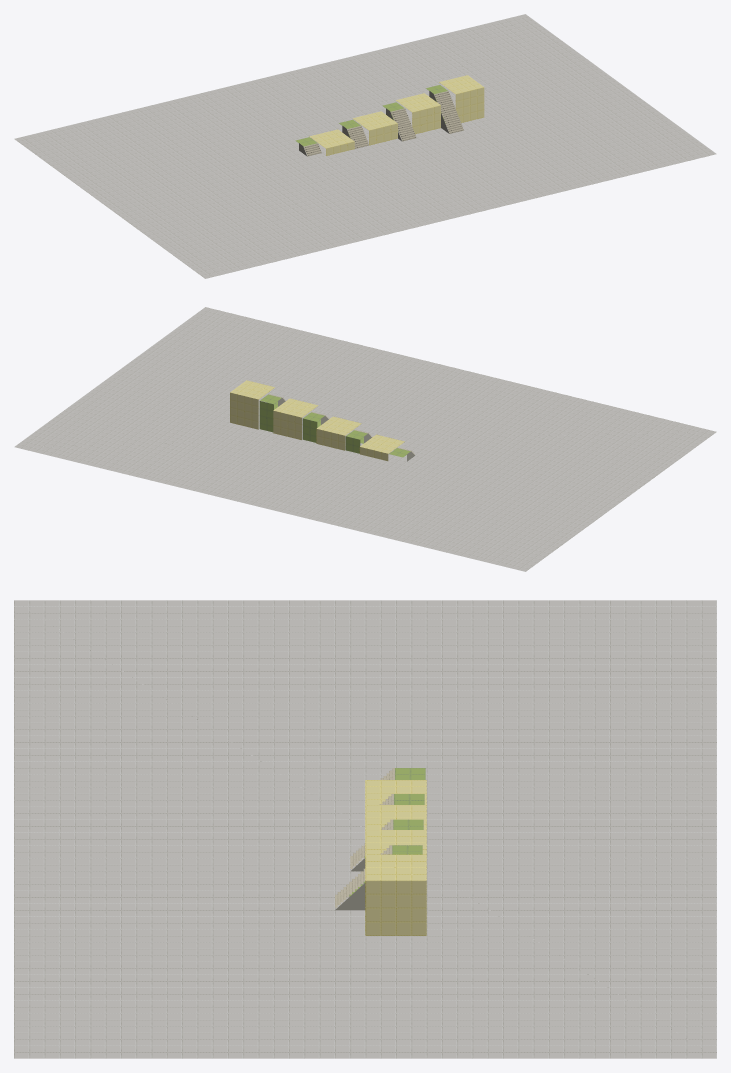
3 renders of one model, top to bottom at view 1: azimuth 30°, elevation 25°; view 2: azimuth 150°, elevation 25°; view 3: azimuth 270°, elevation 25°, orthographic. The views are drawn at different scales.
Visible parts, largest first — view 1: floor_col, platform_4x4-col, platform_3x4-col, platform 2x4-col, platform_1x4-col; view 2: floor_col, platform_4x4-col, platform_3x4-col, platform 2x4-col, platform_1x4-col, stairs_back_2x4-col; view 3: floor_col, platform_4x4-col, platform_3x4-col, platform 2x4-col, platform_1x4-col.
Part boxes in pixels (<box>): floor_col: <box>14,14,716,278</box>; platform_4x4-col: <box>439,75,484,122</box>; platform_3x4-col: <box>396,93,440,134</box>; platform 2x4-col: <box>353,111,397,145</box>; platform_1x4-col: <box>309,129,354,155</box>; floor_col: <box>14,307,716,571</box>; platform_4x4-col: <box>230,380,274,429</box>; platform_3x4-col: <box>273,398,318,439</box>; platform 2x4-col: <box>316,416,361,450</box>; platform_1x4-col: <box>359,434,404,460</box>; stairs_back_2x4-col: <box>259,401,273,432</box>; floor_col: <box>14,600,716,1058</box>; platform_4x4-col: <box>365,854,426,935</box>; platform_3x4-col: <box>365,830,426,854</box>; platform 2x4-col: <box>365,805,426,829</box>; platform_1x4-col: <box>365,780,426,804</box>.
Size of the model in its own units: 142 by 8.5 by 92.
Materials: 5 (5 with a texture image).
